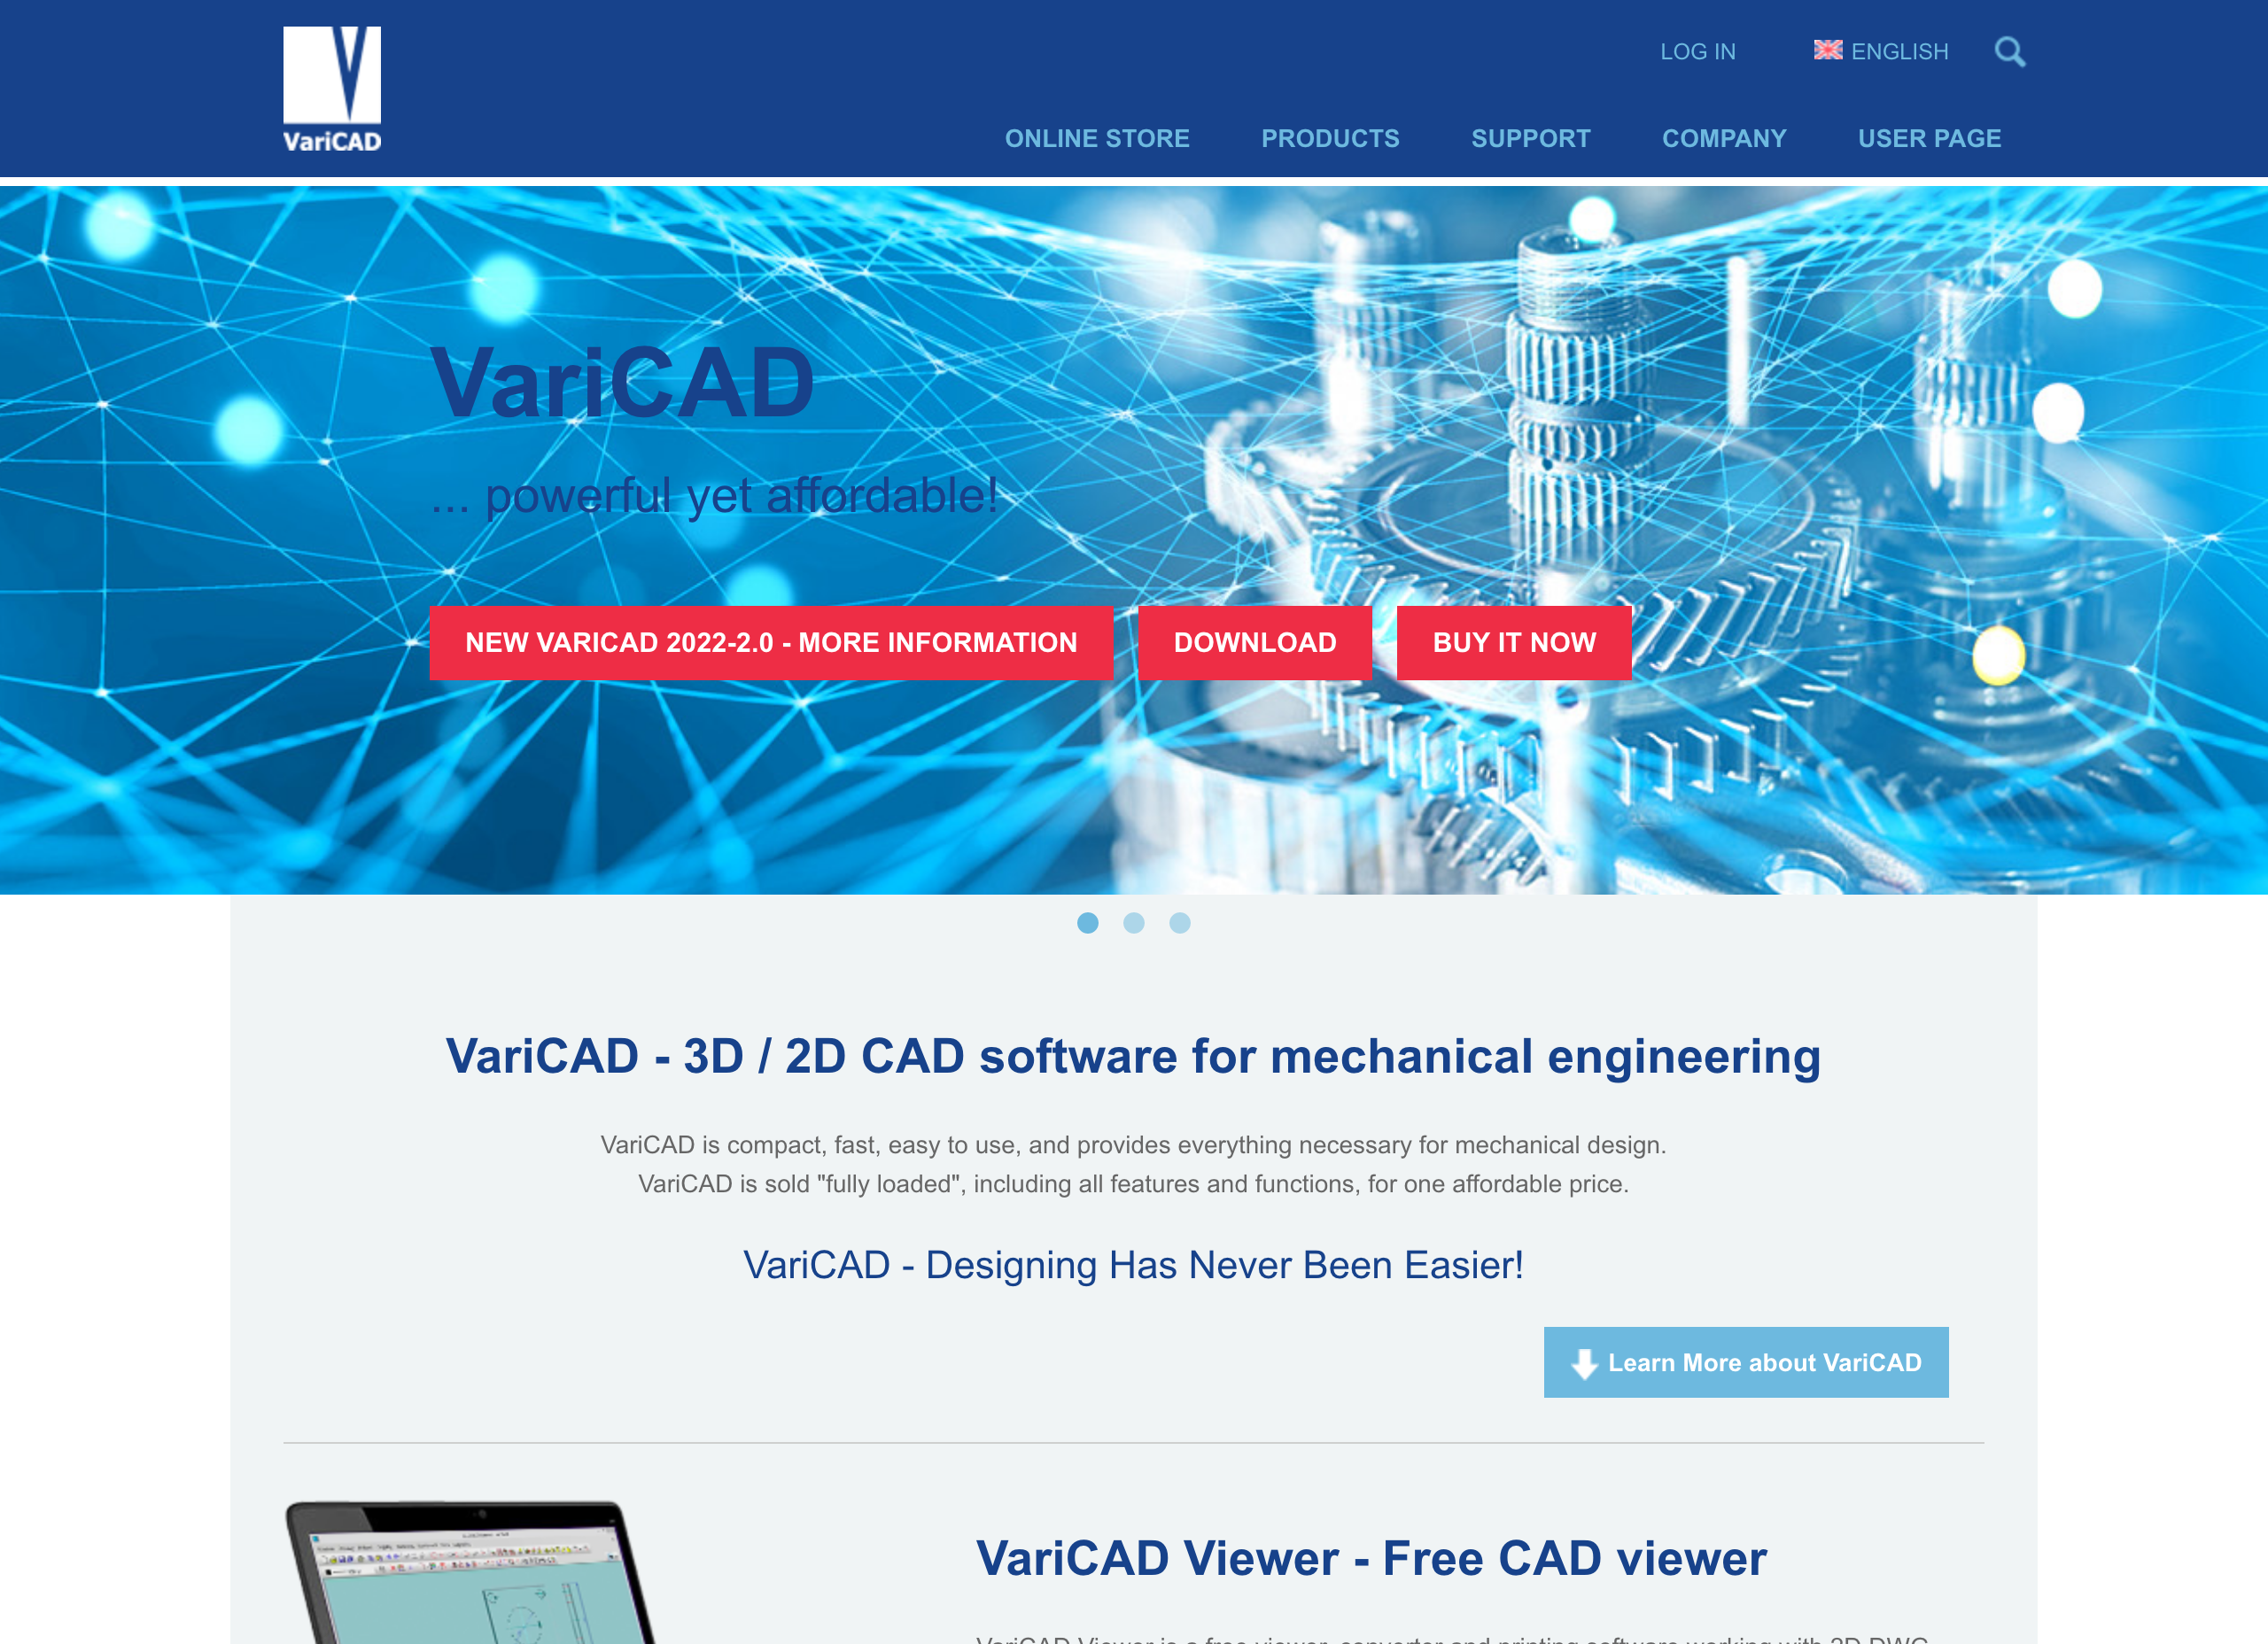Login: (1645, 25, 1763, 77)
